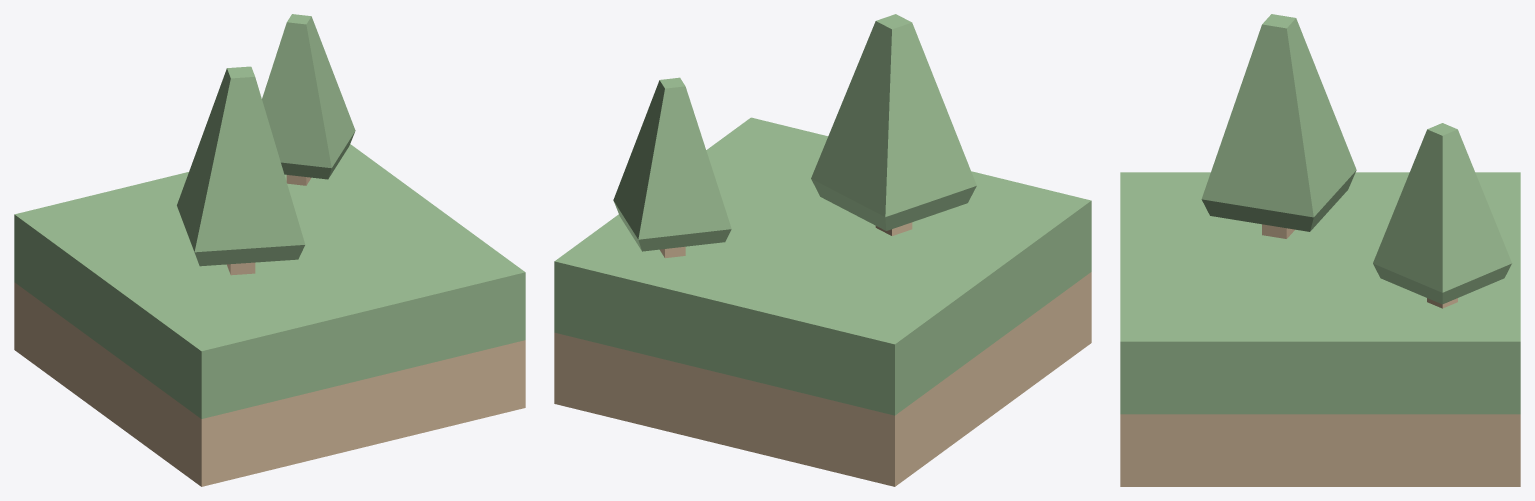
Rendered from tile_003.glb.
3 renders of one model, left to right at view 1: azimuth 30°, elevation 25°; view 2: azimuth 150°, elevation 25°; view 3: azimuth 270°, elevation 25°, orthographic. The views are drawn at different scales.
Visible parts, largest first — view 1: tile_003, Component#2, Component#2_1; view 2: tile_003, Component#2, Component#2_1; view 3: tile_003, Component#2, Component#2_1.
Part boxes in pixels (x1,y1,x2,y2): tile_003: (14, 144, 525, 486); Component#2: (177, 66, 305, 275); Component#2_1: (262, 14, 355, 185); tile_003: (554, 117, 1091, 486); Component#2: (811, 14, 976, 235); Component#2_1: (613, 77, 731, 258); tile_003: (1120, 172, 1520, 486); Component#2: (1201, 14, 1356, 238); Component#2_1: (1373, 123, 1511, 308).
Size of the model in its own units: 1 by 0.9802 by 1.
